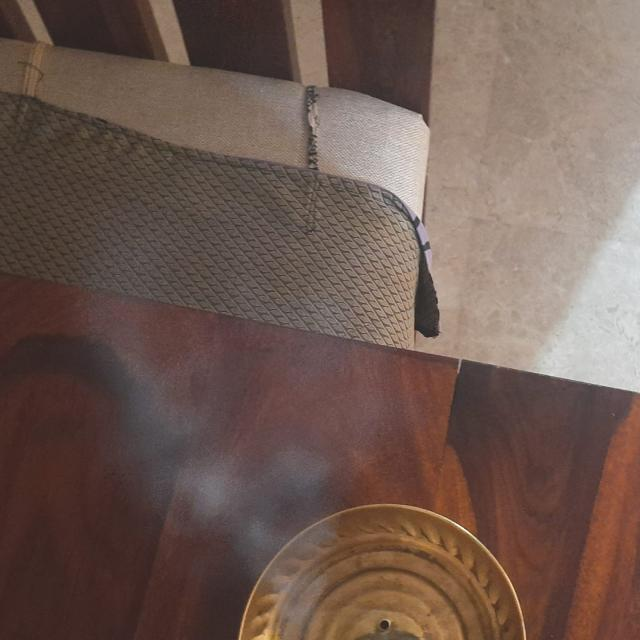fire: (68, 153, 370, 600)
